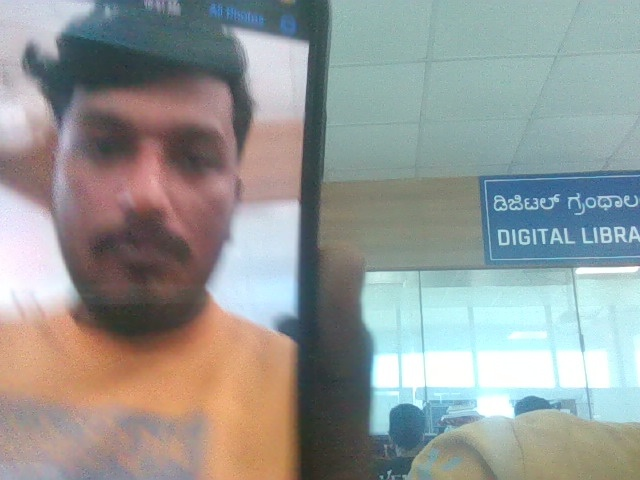fake: (11, 0, 277, 377)
